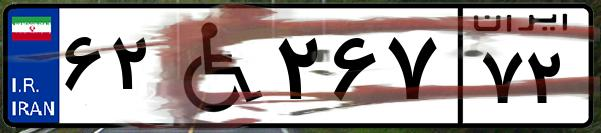2: (270, 28, 330, 110), (525, 38, 570, 115), (110, 28, 158, 98)
6: (330, 28, 385, 110), (57, 26, 110, 100)
7: (385, 28, 445, 110), (475, 38, 525, 113)
ژ (معلولین و جانبازان): (158, 12, 270, 120)
